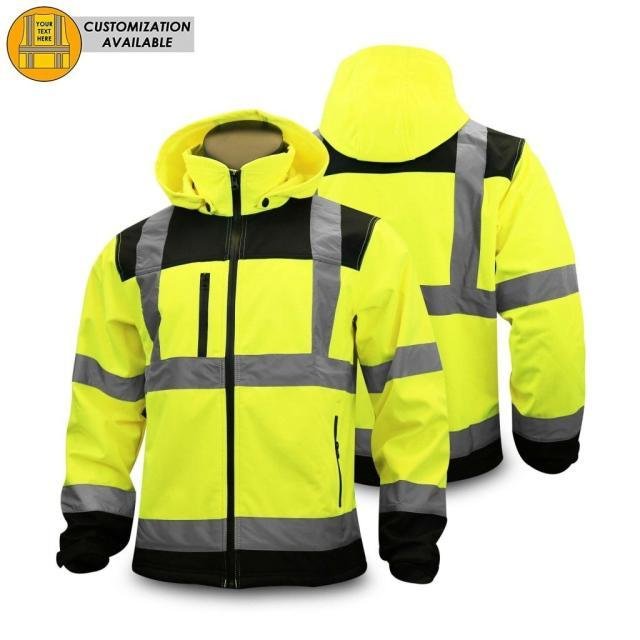reflective_jacket: (30, 100, 413, 612), (318, 41, 584, 486)
